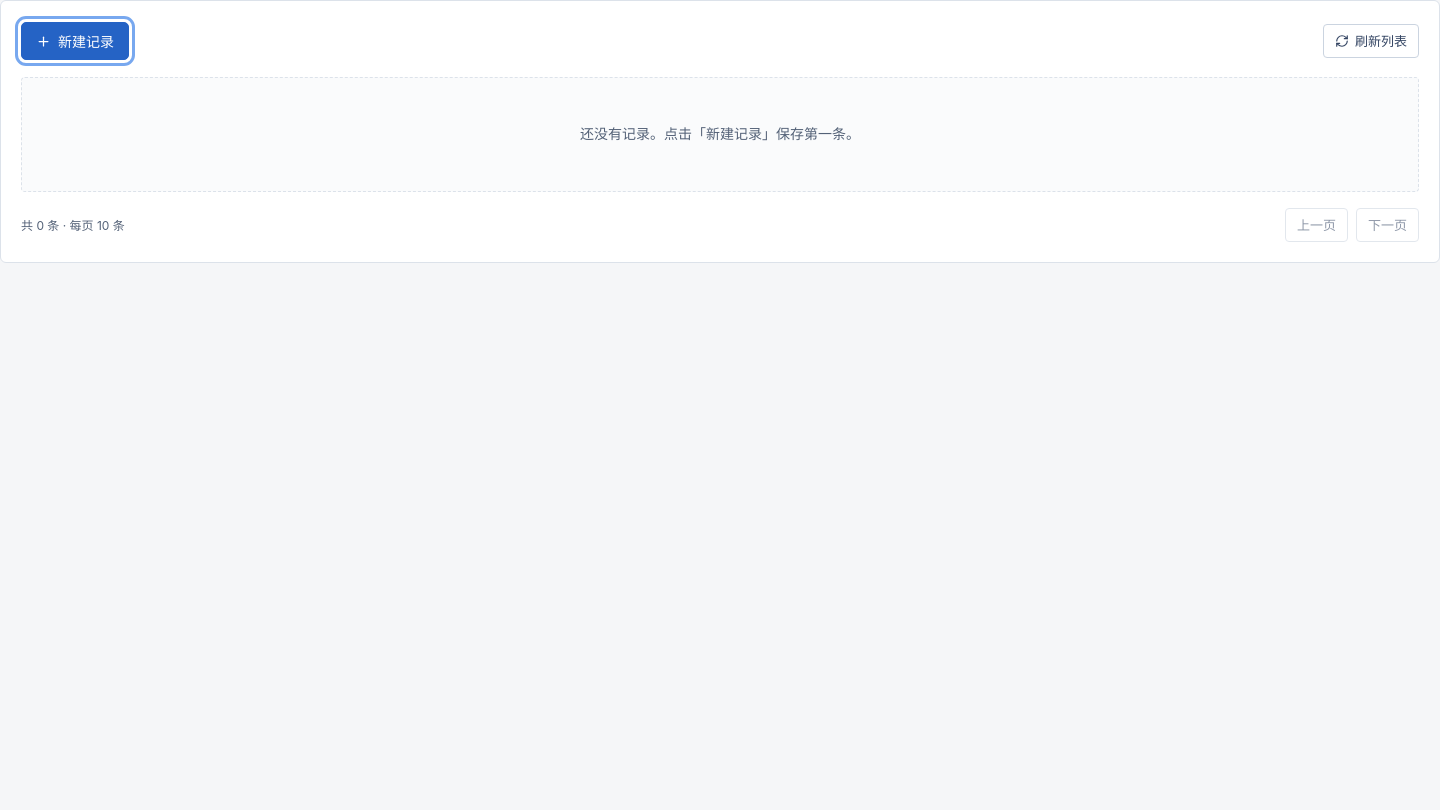
Test: record workspace interruptions › protects a real draft on Escape, restores focus, and only discards after confirmation
This screenshot has width=1440, height=810.
Expected: the text "还没有记录。点击「新建记录」保存第一条。" is shown, [21,77,1419,192]
Click the button "新建记录" at (75, 41), box [21,22,129,60]
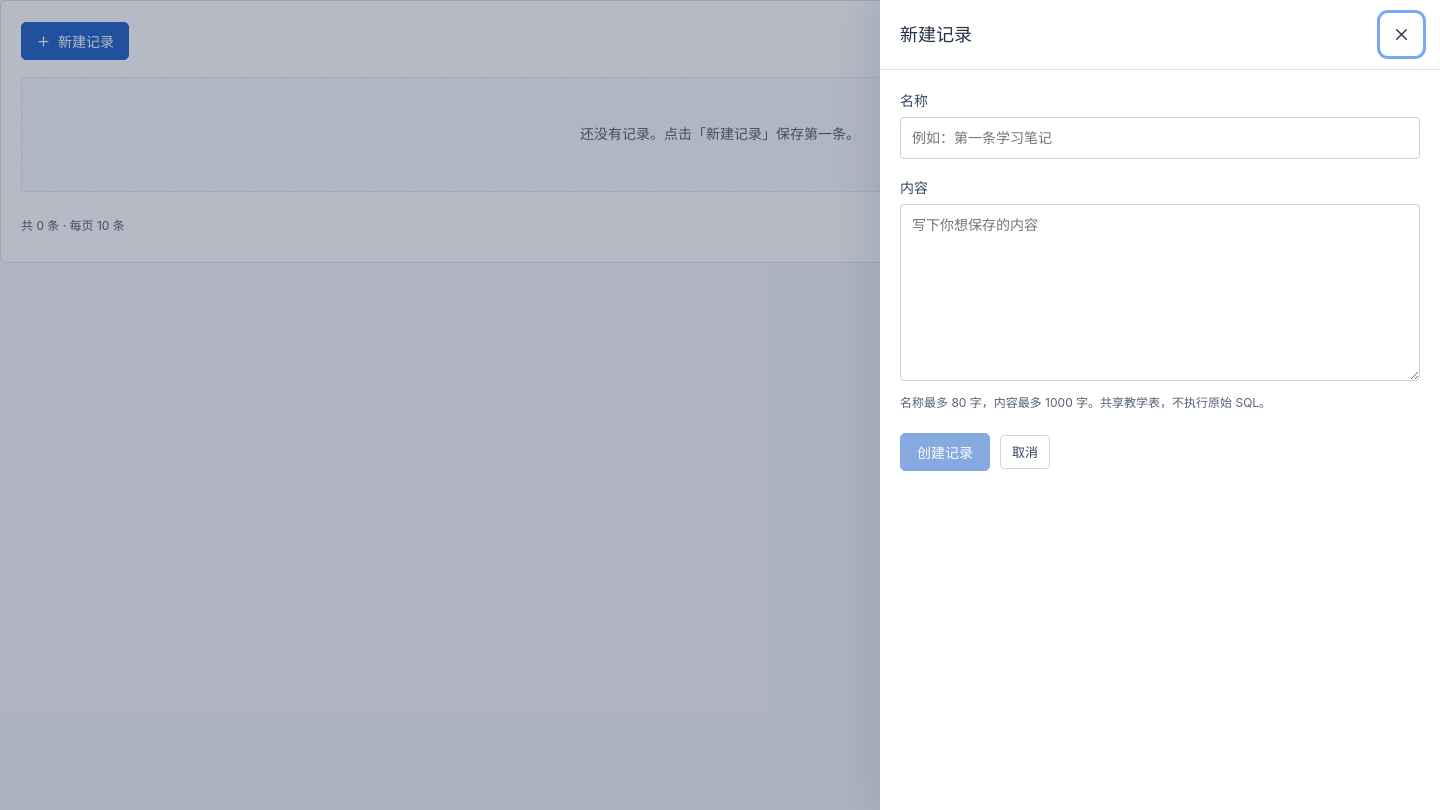
Type "keep me" into the field labelled "名称" at (1160, 138), box [900,117,1420,159]
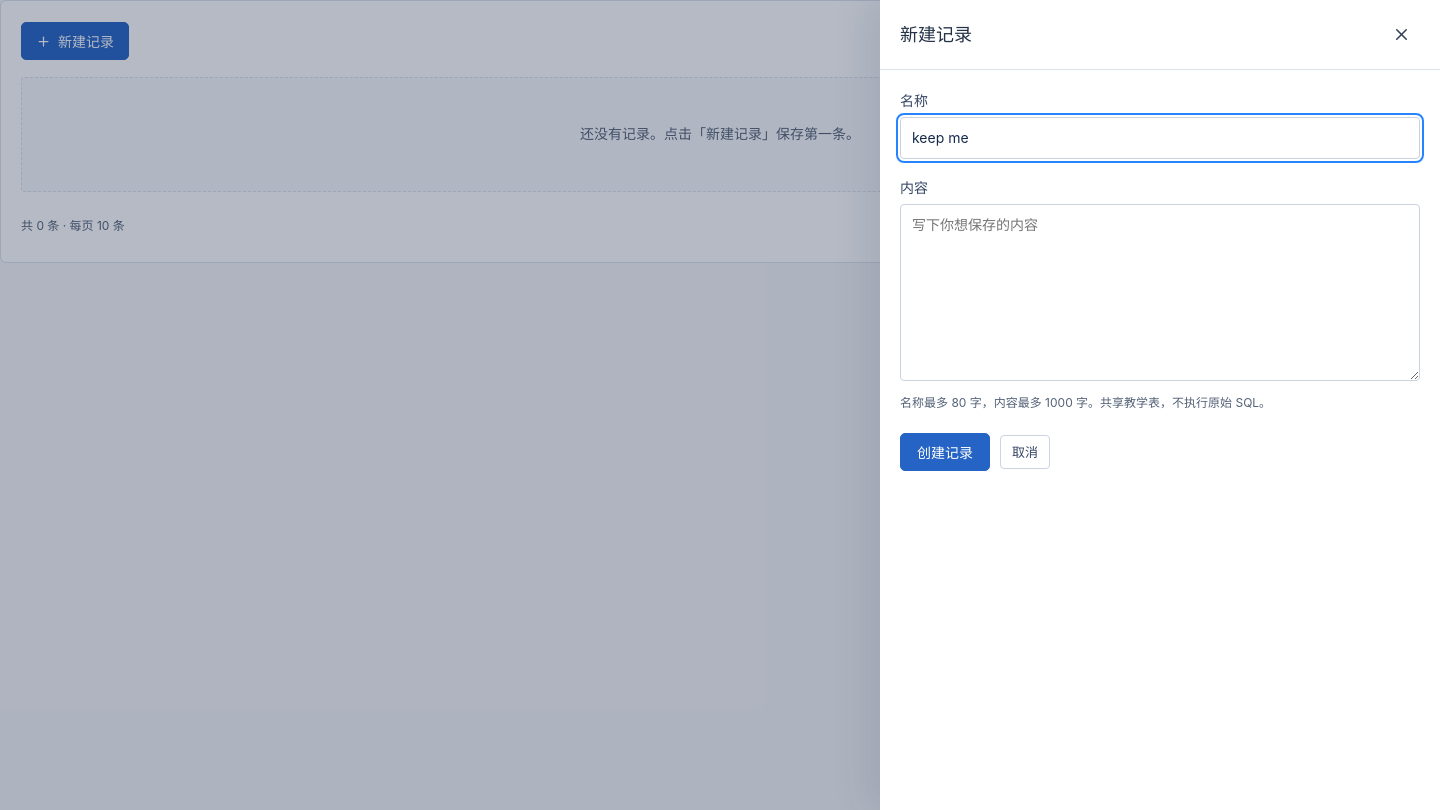
Press Escape in the field labelled "名称", box [900,117,1420,159]
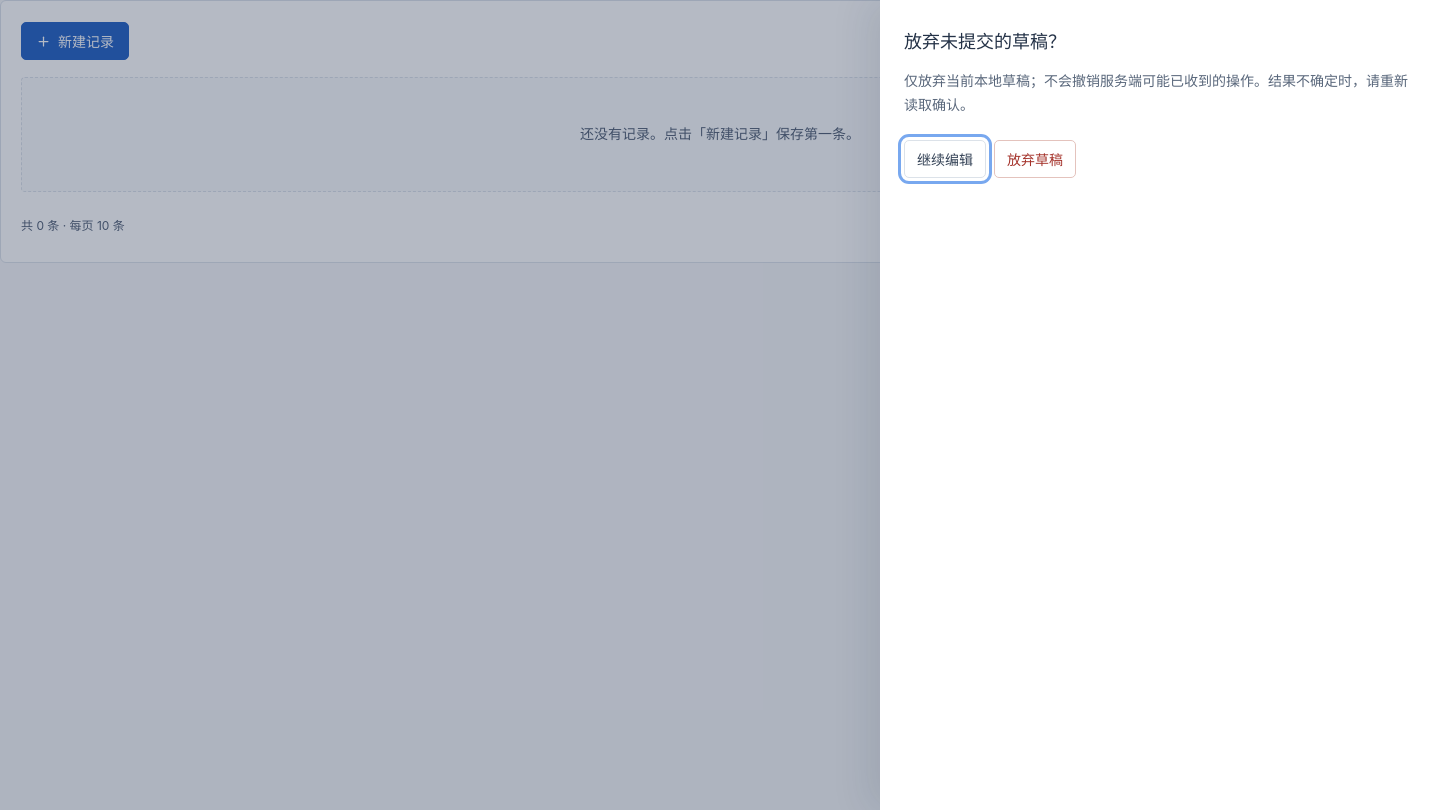
Result: the dialog shows "放弃未提交的草稿" at [904,31,1066,52]
Click the button "继续编辑" at (945, 159), box [904,140,986,178]
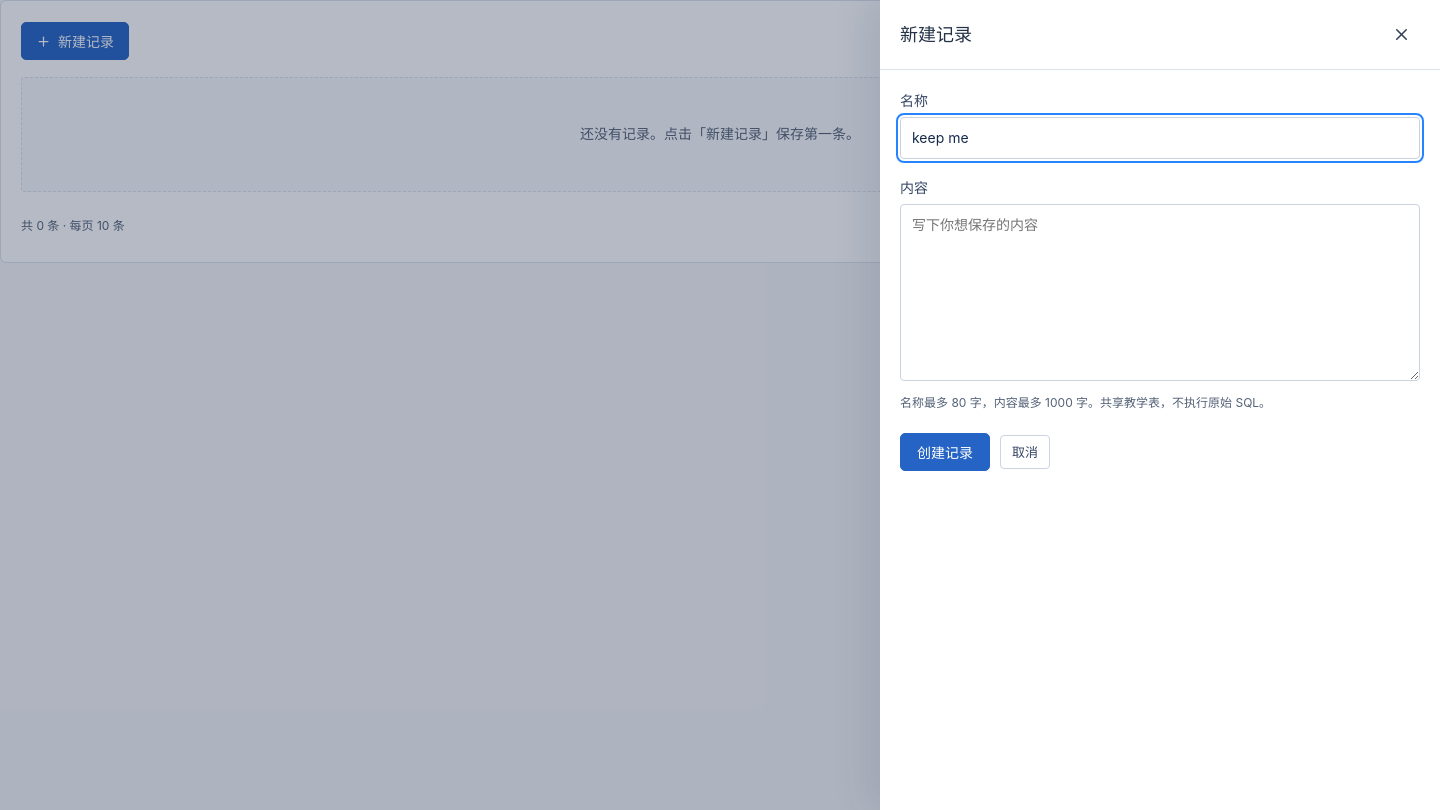
Click the button named "关闭抽屉" at (1402, 34), box [1383,16,1420,53]
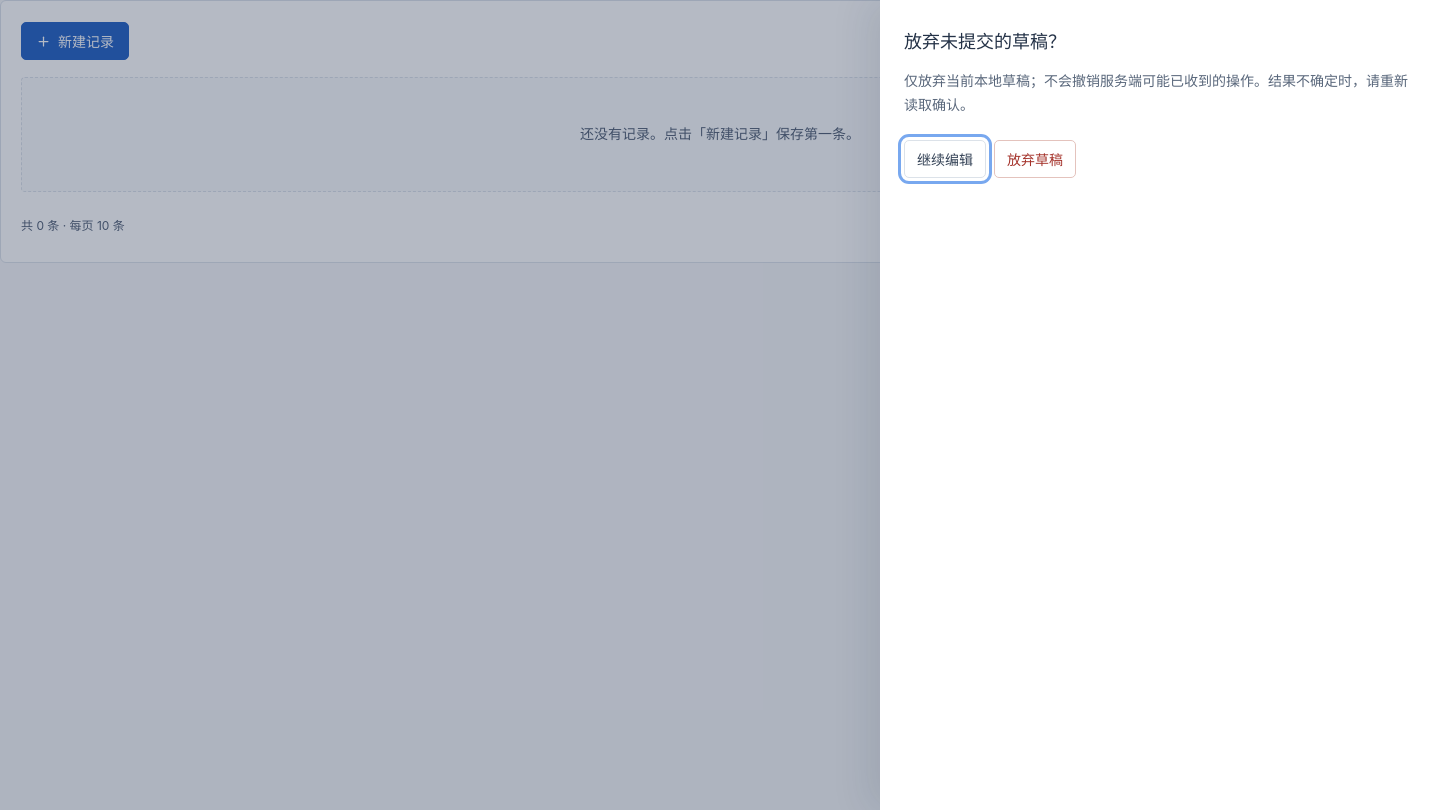
Click the button "放弃草稿" at (1035, 159), box [994,140,1076,178]
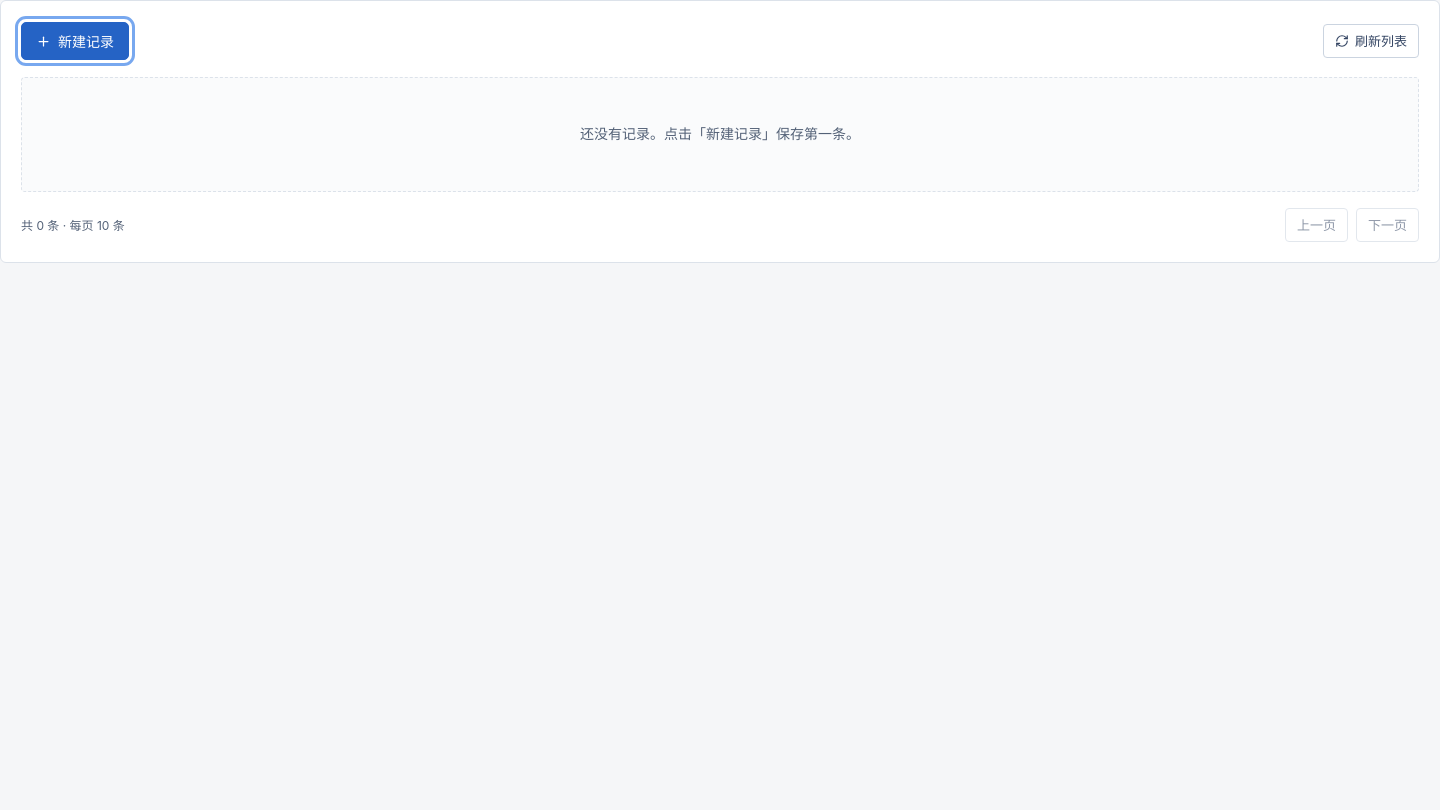
Result: the dialog is gone
